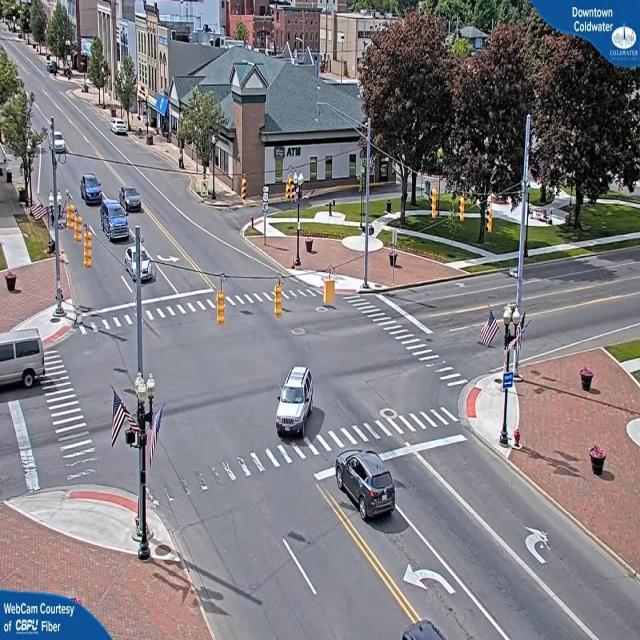car: (334, 451, 398, 522), (0, 326, 47, 398), (276, 367, 314, 438), (103, 202, 131, 242), (131, 243, 154, 283), (79, 175, 103, 208), (120, 186, 142, 214), (111, 120, 129, 136)
